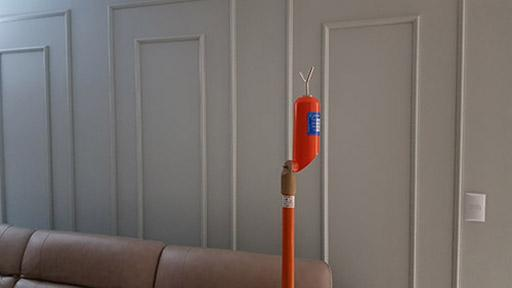Detector_Tensao_Contato: (290, 65, 321, 174)
